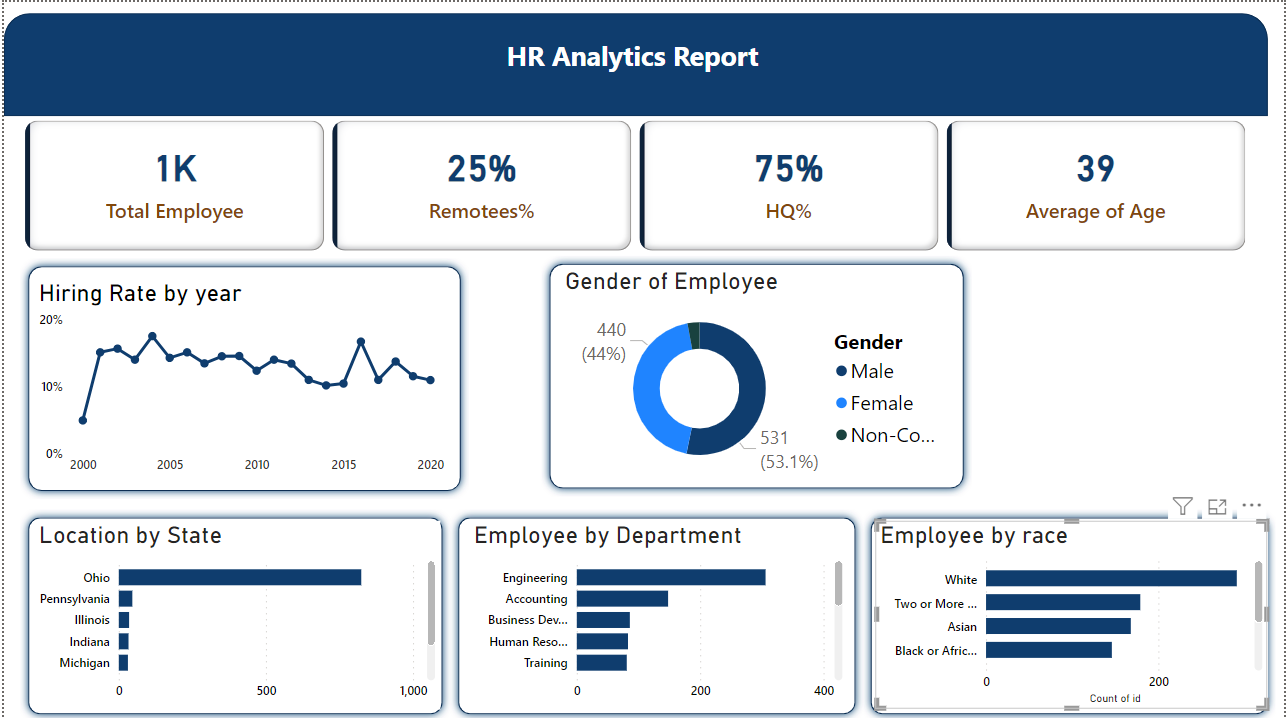

The page's visual inventory and layout, read from the dashboard file:
{"tool":"powerbi","page":{"name":"Page 1","canvas":[1280,720],"ordinal":0},"visuals":[{"type":"cardVisual","fields":{"Data":["Internship.Total Employee","Internship.Remotees%","Internship.HQ%","Avg(Internship.Age)"]},"box":[15.9,113.7,1233.4,140.6],"z":0},{"type":"shape","box":[0,11,1263.8,102.9],"z":1000},{"type":"textbox","box":[16,324.5,1233,150],"z":2000},{"type":"textbox","box":[497.5,30.6,271.4,64.8],"z":3000},{"type":"shape","box":[15.9,256.7,448.6,240.8],"z":4000},{"type":"lineChart","title":"Hiring Rate by year","fields":{"Category":["Calendar.Year"],"Y":["Internship.HireRate by Year"]},"box":[30.6,276.3,415.6,205.4],"z":5000},{"type":"shape","box":[537.9,254.3,430.3,240.8],"z":6000},{"type":"donutChart","title":"Gender of Employee","fields":{"Category":["Internship.gender"],"Y":["CountNonNull(Internship.gender)"]},"box":[556.2,265.3,394.8,216.4],"z":7000},{"type":"shape","box":[15.9,507.3,430.3,212.7],"z":8000},{"type":"shape","box":[446.2,507.3,413.2,212.7],"z":9000},{"type":"shape","box":[859.4,507.3,413.2,212.7],"z":10000},{"type":"barChart","title":"Location by State","fields":{"Category":["Internship.location_state"],"Y":["CountNonNull(Internship.id)"]},"box":[30,518.8,406.2,188.8],"z":11000},{"type":"clusteredBarChart","title":"Employee by Department","fields":{"Category":["Internship.department"],"Y":["CountNonNull(Internship.id)"]},"box":[465,518.8,378.8,188.8],"z":12000},{"type":"clusteredBarChart","title":"Employee by race","fields":{"Category":["Internship.race"],"Y":["CountNonNull(Internship.id)"]},"box":[871.2,518.8,392.5,188.8],"z":13000}]}

Visuals, with their boxes in screenshot pixels (x1, y1, x2, y2), scaled from the page's 1280x720 canvas onto the 1286x718 screenshot:
cardVisual - Internship.Total Employee x Internship.Remotees%: (left=16, top=113, right=1255, bottom=254)
shape: (left=0, top=11, right=1270, bottom=114)
textbox: (left=16, top=324, right=1255, bottom=473)
textbox: (left=500, top=31, right=773, bottom=95)
shape: (left=16, top=256, right=467, bottom=496)
"Hiring Rate by year" lineChart: (left=31, top=276, right=448, bottom=480)
shape: (left=540, top=254, right=973, bottom=494)
"Gender of Employee" donutChart: (left=559, top=265, right=955, bottom=480)
shape: (left=16, top=506, right=448, bottom=717)
shape: (left=448, top=506, right=863, bottom=717)
shape: (left=863, top=506, right=1279, bottom=717)
"Location by State" barChart: (left=30, top=517, right=438, bottom=706)
"Employee by Department" clusteredBarChart: (left=467, top=517, right=848, bottom=706)
"Employee by race" clusteredBarChart: (left=875, top=517, right=1270, bottom=706)
